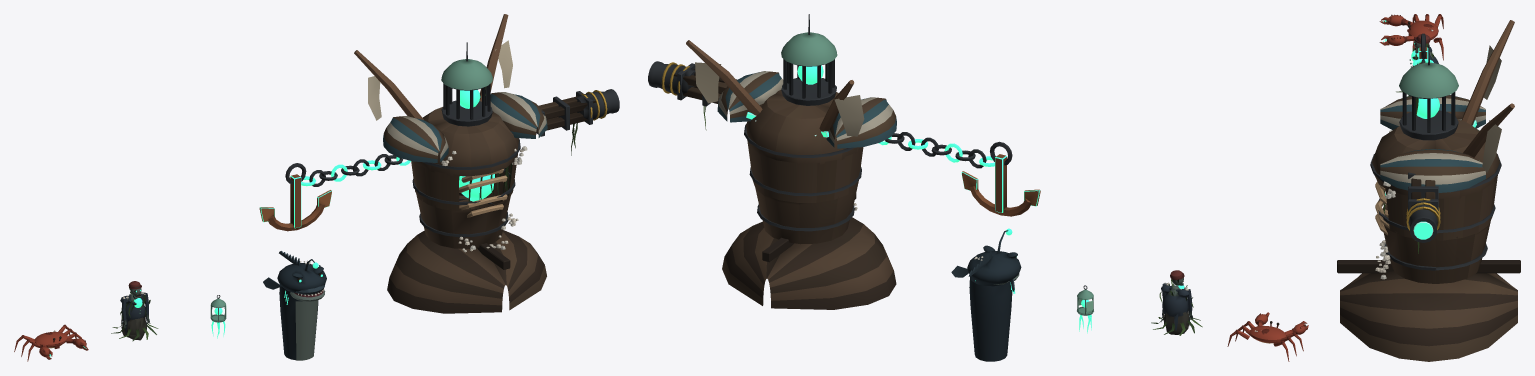
File: enemies.glb
The picture shows the model from 3 angles, left to right: view 1: azimuth 30°, elevation 25°; view 2: azimuth 150°, elevation 25°; view 3: azimuth 270°, elevation 25°; orthographic projection. The views are drawn at different scales.
Visible parts, largest first — view 1: body.003, body.002, head.001, arm_l.001, arm_r.001, body.001, heart; view 2: body.003, body.002, head.001, arm_l.001, arm_r.001, body.001, body; view 3: body.003, head.001, arm_r.001, body, arm_l.001, claw_r, claw_l, head.
Part boxes in pixels (bbox=[...]): body.003: bbox=[354, 14, 547, 313]; body.002: bbox=[263, 251, 326, 360]; head.001: bbox=[441, 42, 492, 126]; arm_l.001: bbox=[259, 154, 410, 231]; arm_r.001: bbox=[536, 89, 619, 155]; body.001: bbox=[111, 292, 158, 341]; heart: bbox=[459, 174, 494, 201]; body.003: bbox=[686, 40, 896, 309]; body.002: bbox=[951, 228, 1021, 361]; head.001: bbox=[781, 14, 837, 105]; arm_l.001: bbox=[878, 132, 1040, 216]; arm_r.001: bbox=[648, 61, 736, 130]; body.001: bbox=[1151, 282, 1202, 335]; body: bbox=[1249, 321, 1286, 343]; body.003: bbox=[1337, 20, 1520, 361]; head.001: bbox=[1399, 43, 1458, 140]; arm_r.001: bbox=[1406, 172, 1440, 253]; body: bbox=[1407, 20, 1438, 40]; arm_l.001: bbox=[1412, 33, 1433, 65]; claw_r: bbox=[1379, 35, 1413, 45]; claw_l: bbox=[1379, 14, 1412, 26]; head: bbox=[1414, 34, 1430, 53].
Bounding box in the file's own units: 28.3 × 12.4 × 6.6.
